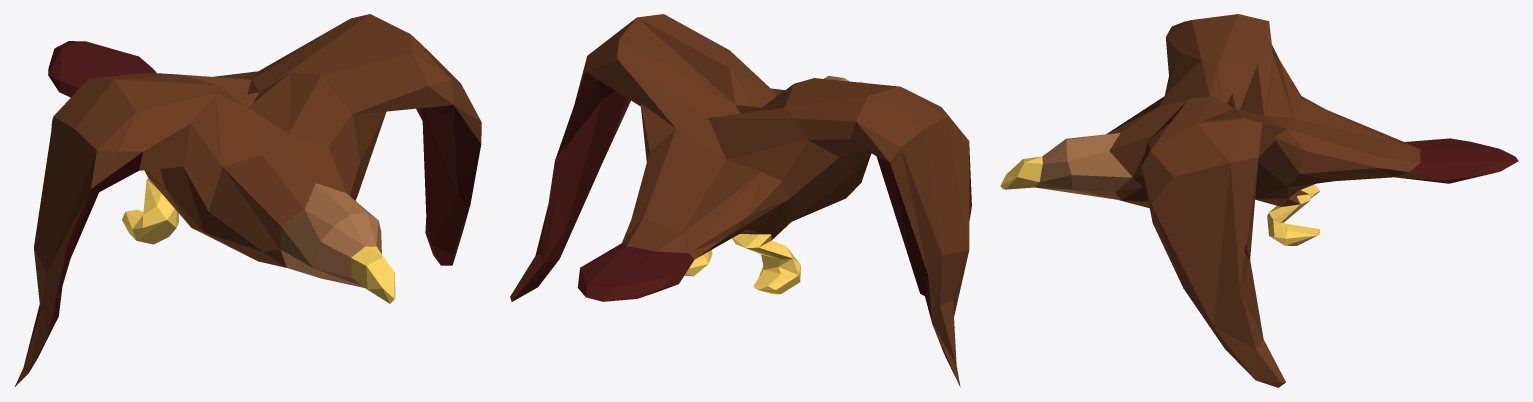
Rendered from aguili_000021.obj.
3 views of the same model, side by side, from view 1: azimuth 30°, elevation 25°; view 2: azimuth 150°, elevation 25°; view 3: azimuth 270°, elevation 25° (orthographic). The views are drawn at different scales.
Parts seen in each view (by area): view 1: aguila.001_Cube.001; view 2: aguila.001_Cube.001; view 3: aguila.001_Cube.001.
Part boxes in pixels (x1,y1,x2,y2): aguila.001_Cube.001: (14, 14, 481, 387); aguila.001_Cube.001: (510, 14, 971, 387); aguila.001_Cube.001: (1000, 14, 1518, 387).
Size of the model in its own units: 46.33 by 28.09 by 56.5.
1 material, 1 textured.
